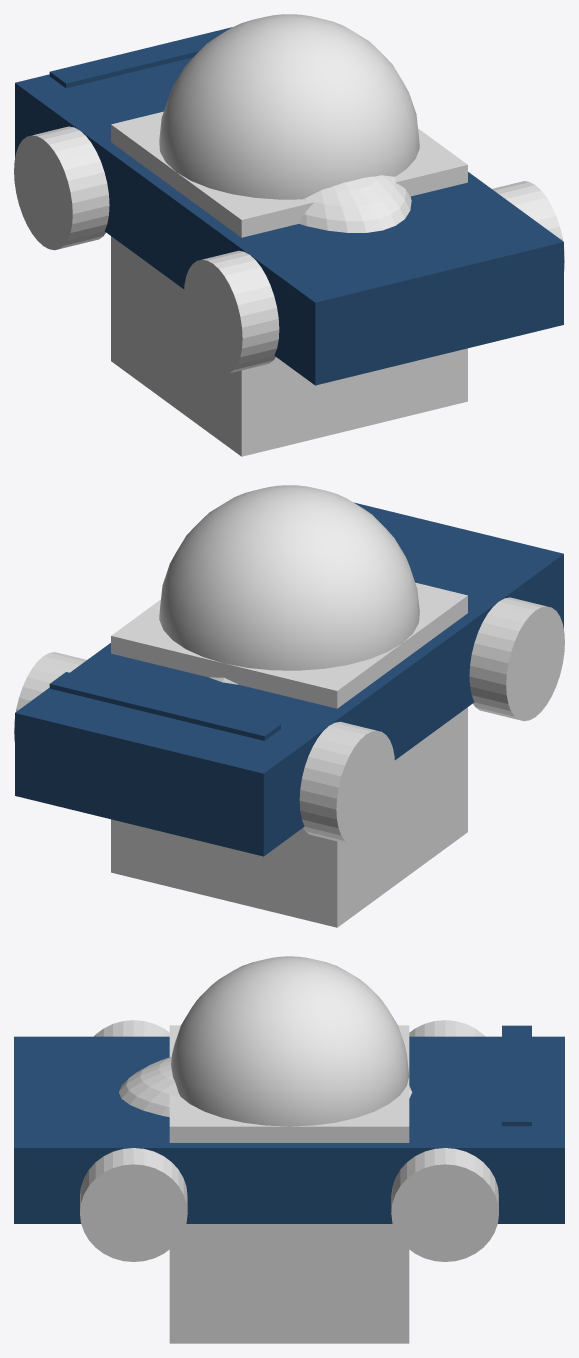
The model's file is Aerodynamic_concept_1794638297.glb.
3 renders of one model, top to bottom at view 1: azimuth 30°, elevation 25°; view 2: azimuth 150°, elevation 25°; view 3: azimuth 270°, elevation 25°, orthographic. The views are drawn at different scales.
Visible parts, largest first — view 1: Hypercar_Chassis, GenMesh_General, Cube, Wheel_1, Wheel_3, Hypercar_Canopy, Hypercar_Wing, Wheel_4; view 2: Hypercar_Chassis, Cube, GenMesh_General, Wheel_3, Wheel_1, Hypercar_Wing, Wheel_2; view 3: Hypercar_Chassis, Cube, GenMesh_General, Wheel_2, Wheel_4, Hypercar_Wing, Hypercar_Canopy, Wheel_1, Wheel_3.
Boxes of the visible parts, x1=… form: Hypercar_Chassis: x1=15, y1=57, x2=563, y2=385; GenMesh_General: x1=159, y1=14, x2=419, y2=199; Cube: x1=111, y1=111, x2=467, y2=456; Wheel_1: x1=14, y1=126, x2=109, y2=250; Wheel_3: x1=183, y1=250, x2=279, y2=374; Hypercar_Canopy: x1=299, y1=175, x2=411, y2=232; Hypercar_Wing: x1=49, y1=27, x2=231, y2=88; Wheel_4: x1=492, y1=181, x2=564, y2=270; Hypercar_Chassis: x1=15, y1=502, x2=563, y2=856; Cube: x1=111, y1=582, x2=467, y2=927; GenMesh_General: x1=159, y1=485, x2=419, y2=670; Wheel_3: x1=469, y1=597, x2=564, y2=721; Wheel_1: x1=299, y1=721, x2=395, y2=845; Hypercar_Wing: x1=49, y1=672, x2=280, y2=740; Wheel_2: x1=14, y1=652, x2=86, y2=741; Hypercar_Chassis: x1=14, y1=1036, x2=564, y2=1223; Cube: x1=169, y1=1025, x2=409, y2=1343; GenMesh_General: x1=171, y1=956, x2=409, y2=1126; Wheel_2: x1=391, y1=1148, x2=498, y2=1261; Wheel_4: x1=80, y1=1148, x2=187, y2=1261; Hypercar_Wing: x1=502, y1=1025, x2=531, y2=1126; Hypercar_Canopy: x1=119, y1=1057, x2=412, y2=1116; Wheel_1: x1=409, y1=1020, x2=484, y2=1036; Wheel_3: x1=94, y1=1020, x2=169, y2=1036.
Bounding box in the file's own units: 2.85 × 3 × 4.6.
